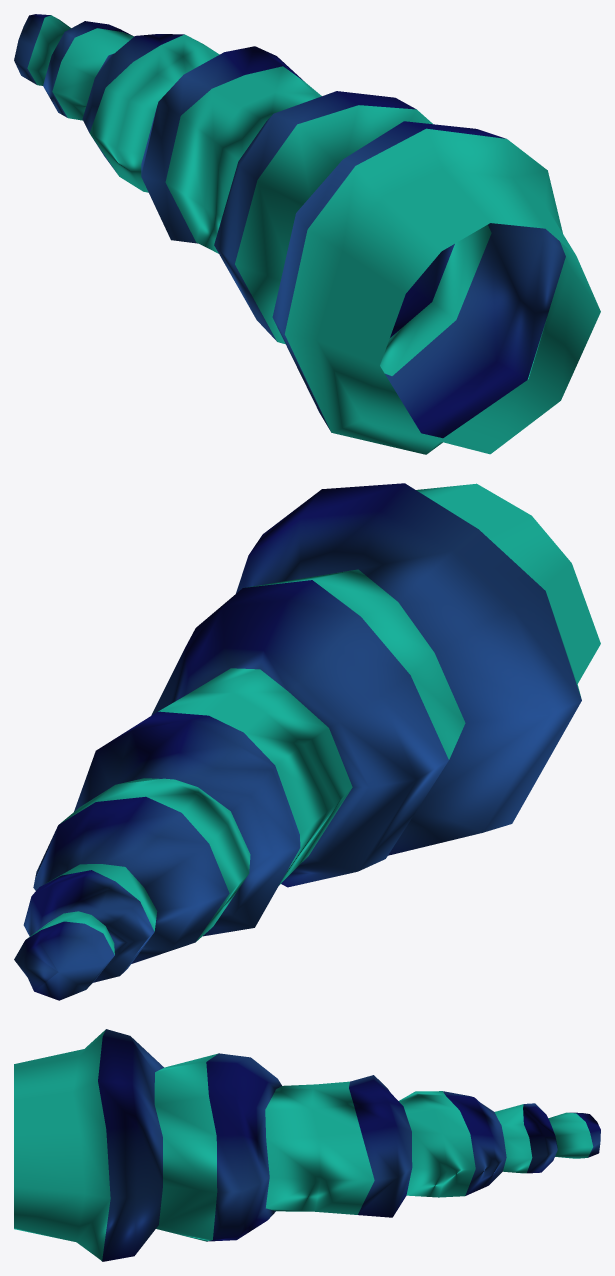
Rendered from RaveCaveTowerC.fbx.
3 views of the same model, one above another, from view 1: azimuth 30°, elevation 25°; view 2: azimuth 150°, elevation 25°; view 3: azimuth 270°, elevation 25° (orthographic). The views are drawn at different scales.
Visible parts, largest first — view 1: RaveCaveTowerC; view 2: RaveCaveTowerC; view 3: RaveCaveTowerC.
Part boxes in pixels (left/top/right/bottom): RaveCaveTowerC: left=14, top=14, right=600, bottom=454; RaveCaveTowerC: left=14, top=483, right=600, bottom=1000; RaveCaveTowerC: left=14, top=1029, right=600, bottom=1261.
Size of the model in its own units: 426 by 448 by 1056.
